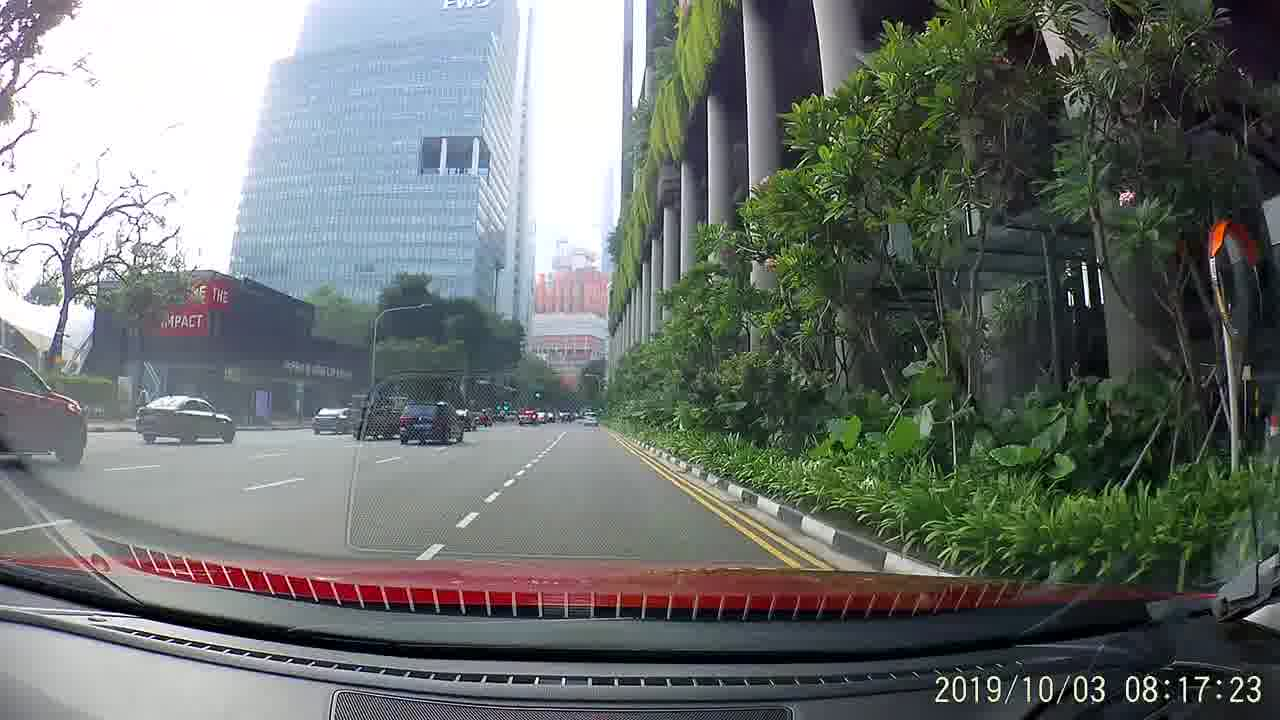car: (0, 349, 92, 467), (137, 389, 236, 444), (397, 397, 466, 446), (312, 404, 353, 437), (516, 406, 538, 427), (579, 408, 601, 428)
